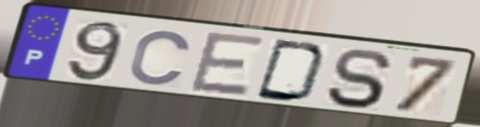7: (392, 54, 459, 115)
9: (64, 19, 128, 83)
C: (126, 29, 195, 88)
D: (252, 37, 331, 105)
E: (186, 29, 268, 98)
S: (322, 47, 396, 111)
